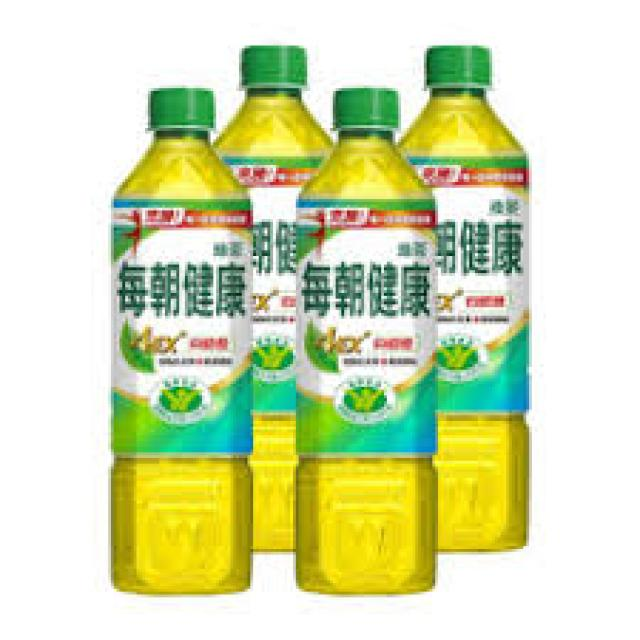MeiChou_GreenTea: (104, 77, 261, 607), (292, 92, 435, 595), (391, 42, 528, 550), (209, 35, 333, 560)
